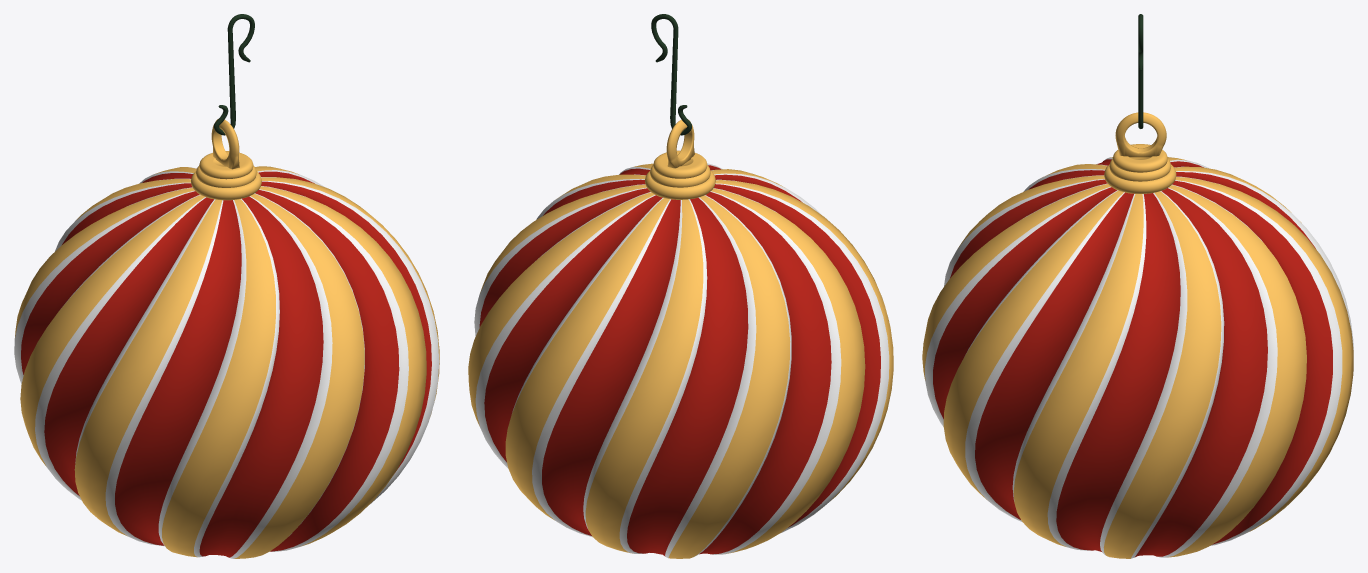
Rendered from Pallina_natalizia_02.fbx.
3 renders of one model, left to right at view 1: azimuth 30°, elevation 25°; view 2: azimuth 150°, elevation 25°; view 3: azimuth 270°, elevation 25°, orthographic.
Visible parts, largest first — view 1: Pallina_natalizia_02; view 2: Pallina_natalizia_02; view 3: Pallina_natalizia_02.
Part boxes in pixels (x1,y1,x2,y2): Pallina_natalizia_02: (14, 14, 439, 558); Pallina_natalizia_02: (468, 14, 893, 558); Pallina_natalizia_02: (922, 14, 1353, 558).
Bounding box in the file's own units: 13.15 × 17.73 × 13.11.
